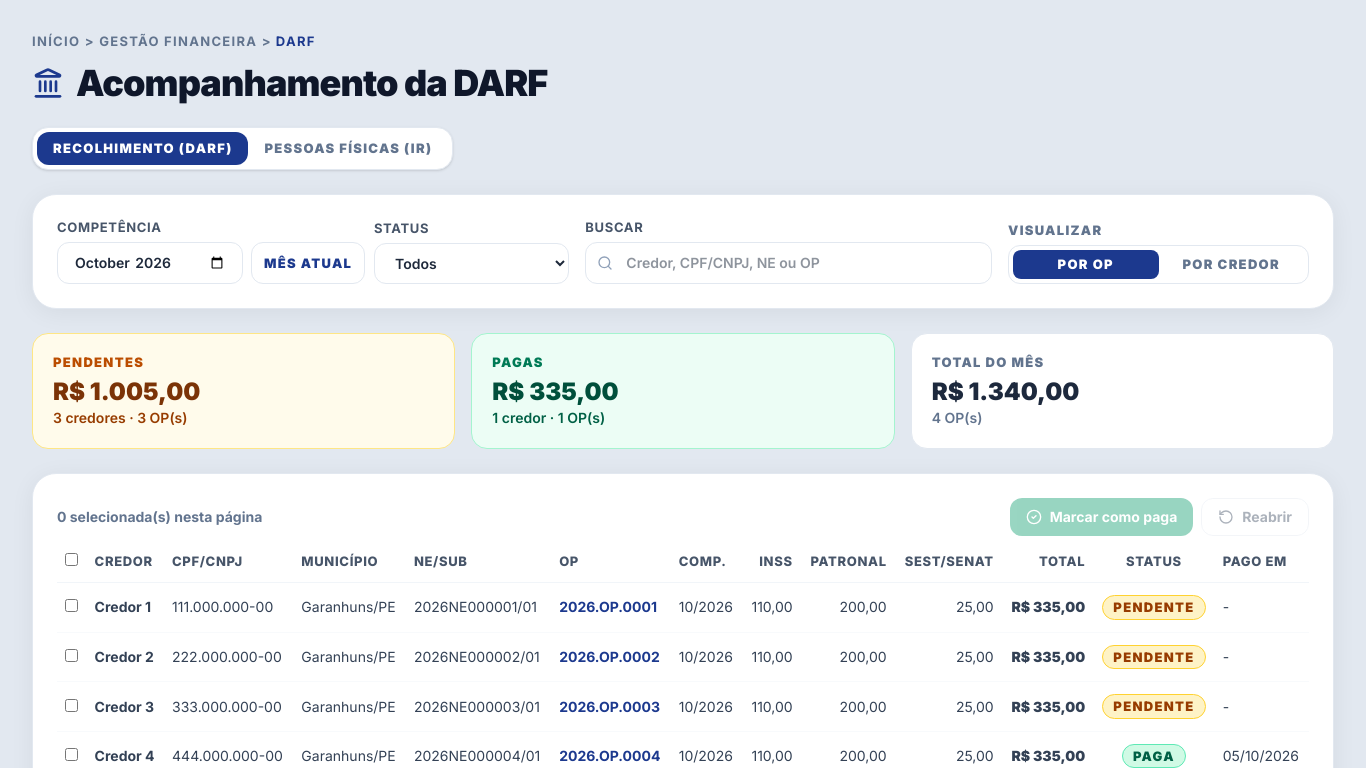
Test: Tela /darf › "Por credor" pede agrupar=credor, mostra a soma e esconde a seleção
The image size is (1366, 768).
Expected: the text "Credor 1" is shown, [87,583,164,632]
What coordinates should you click on to do the following:
click the radio button labelled "Por credor"
I would click on:
 (1231, 265)
Its box is [1158,250,1304,279].
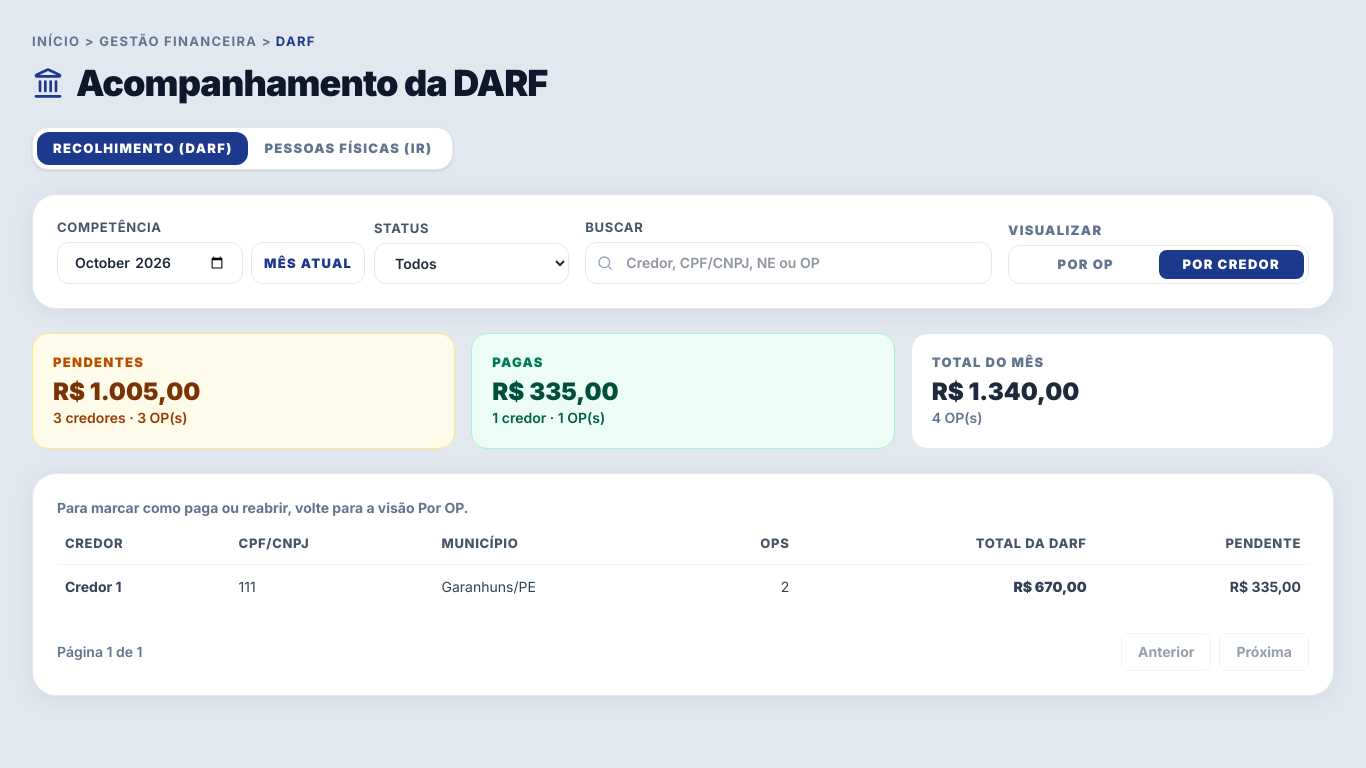
Result: the text "R$ 670,00" is shown at [797,565,1095,609]
Result: no checkboxes are shown
Result: the text "Para marcar como paga ou reabrir, volte para a visão Por OP." is shown at [57,498,468,518]
